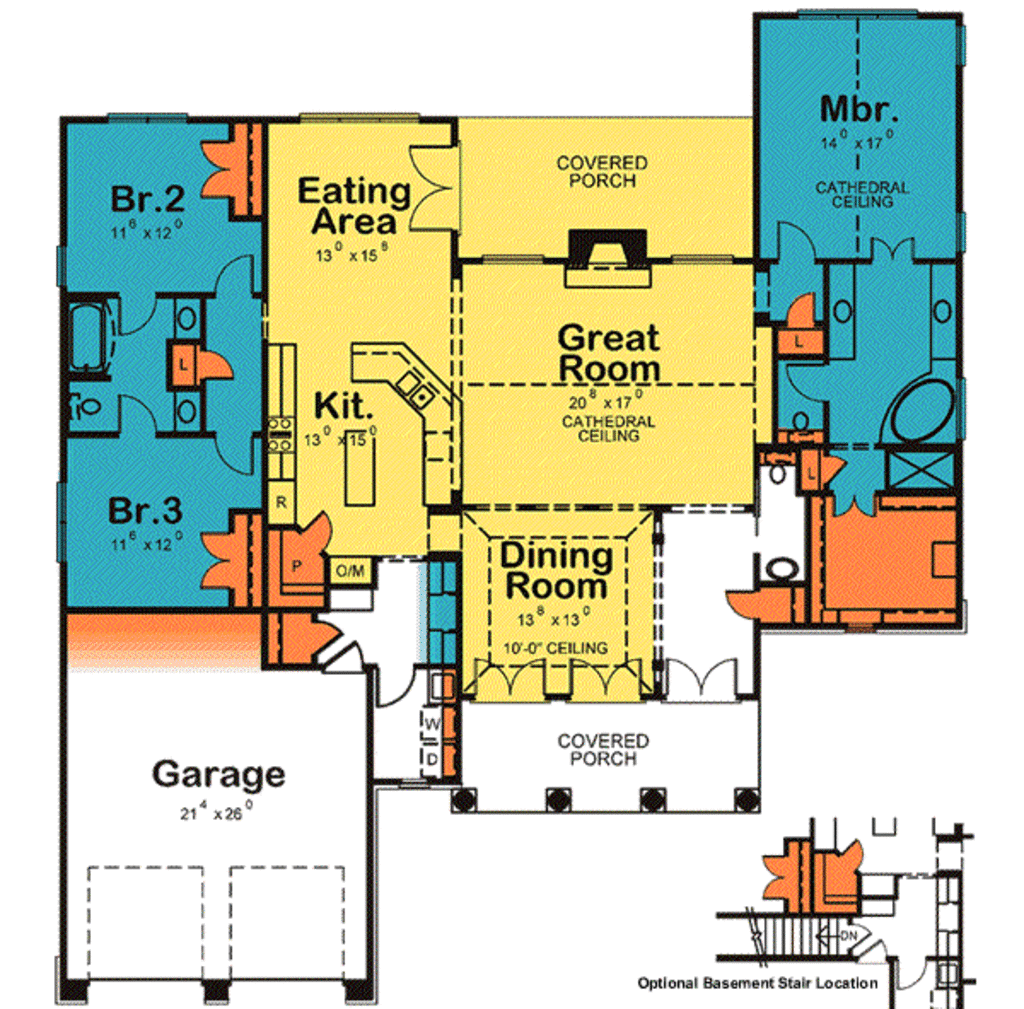door: (400, 132, 471, 238), (660, 649, 745, 701), (563, 658, 651, 704), (186, 527, 245, 595), (468, 655, 549, 703), (197, 129, 242, 212), (775, 357, 843, 407), (369, 653, 425, 710), (755, 844, 806, 906), (111, 289, 168, 344), (757, 215, 819, 264), (200, 249, 257, 297), (208, 429, 265, 477), (714, 580, 766, 621), (825, 487, 877, 526), (114, 390, 155, 438), (865, 232, 920, 264), (891, 957, 934, 993)
kitchen_bar: (349, 318, 466, 507)
small_sink: (928, 263, 955, 352), (828, 258, 855, 346), (172, 384, 205, 441), (168, 298, 208, 343)
stairs: (714, 906, 845, 960)
tub: (68, 297, 109, 372)
window: (286, 104, 429, 132), (800, 4, 917, 26), (102, 101, 195, 127), (663, 243, 740, 272), (51, 481, 70, 567), (471, 252, 549, 267)
